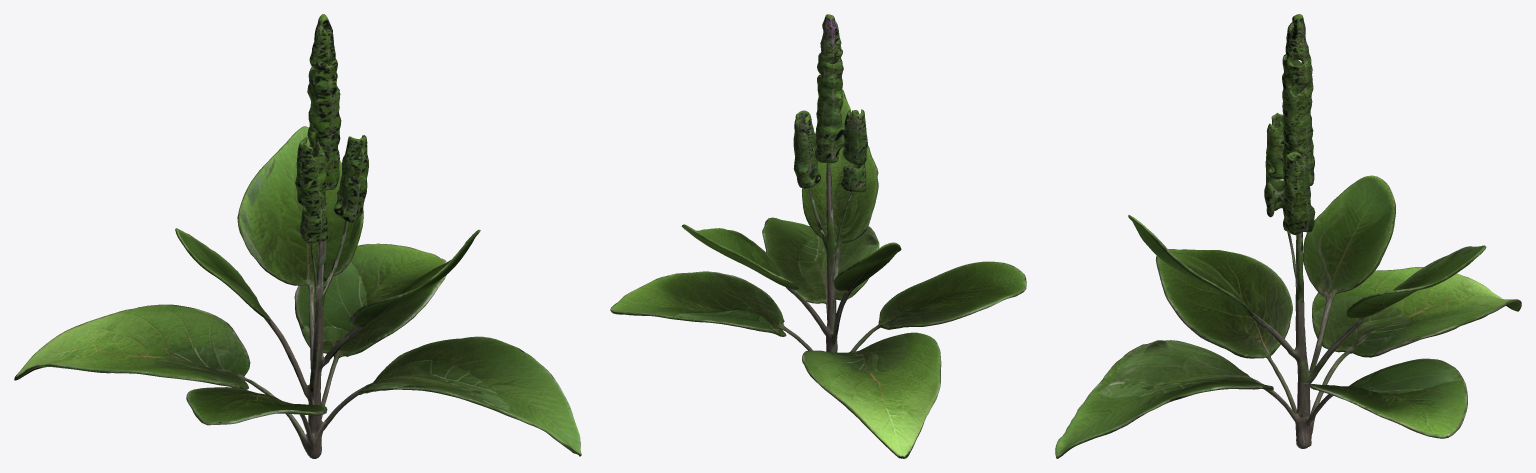
The model's file is tulsi.glb.
The picture shows the model from 3 angles, left to right: view 1: azimuth 30°, elevation 25°; view 2: azimuth 150°, elevation 25°; view 3: azimuth 270°, elevation 25°; orthographic projection. The views are drawn at different scales.
Bounding box in the file's own units: 1.8 × 1.97 × 1.91.
1 material, 1 textured.
